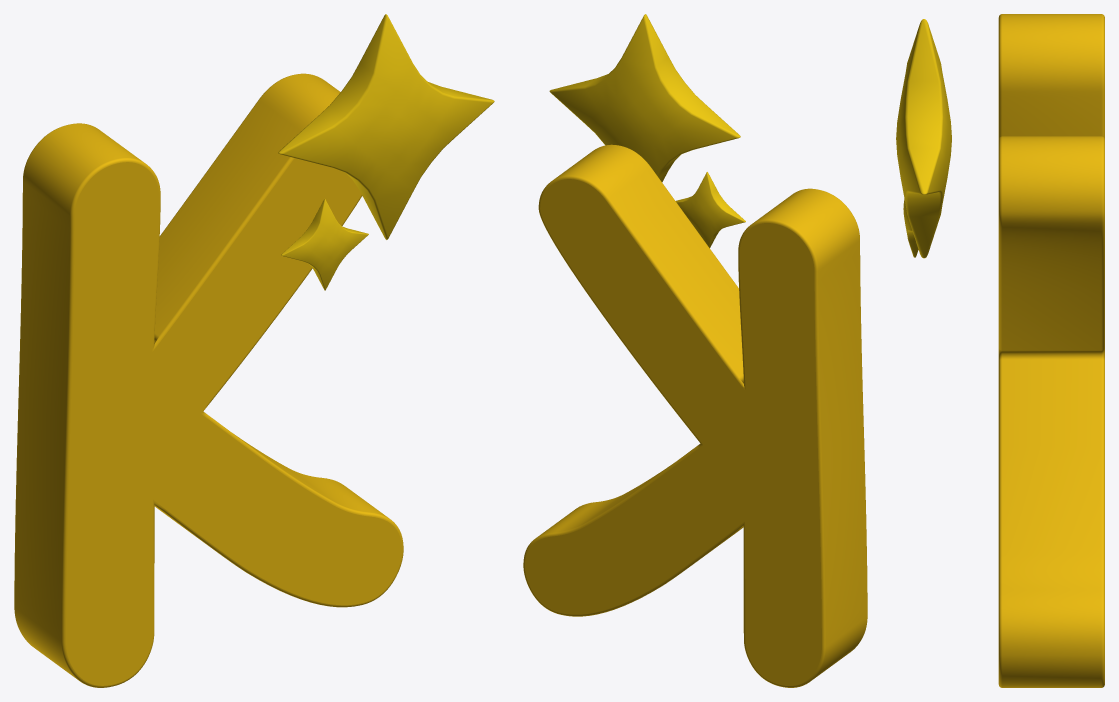
The model's file is k-metal-1.glb.
The picture shows the model from 3 angles, left to right: view 1: azimuth 30°, elevation 25°; view 2: azimuth 150°, elevation 25°; view 3: azimuth 270°, elevation 25°; orthographic projection. The views are drawn at different scales.
Visible parts, largest first — view 1: 0011; view 2: 0011; view 3: 0011.
Part boxes in pixels (x1,y1,x2,y2): 0011: [14, 14, 494, 687]; 0011: [523, 14, 867, 687]; 0011: [896, 14, 1104, 687].
Bounding box in the file's own units: 1.37 × 2.12 × 0.5905.
